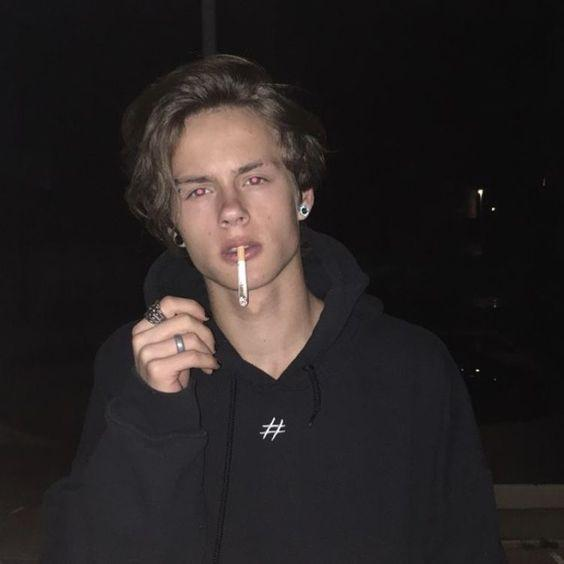cigarette: (238, 245, 248, 309)
